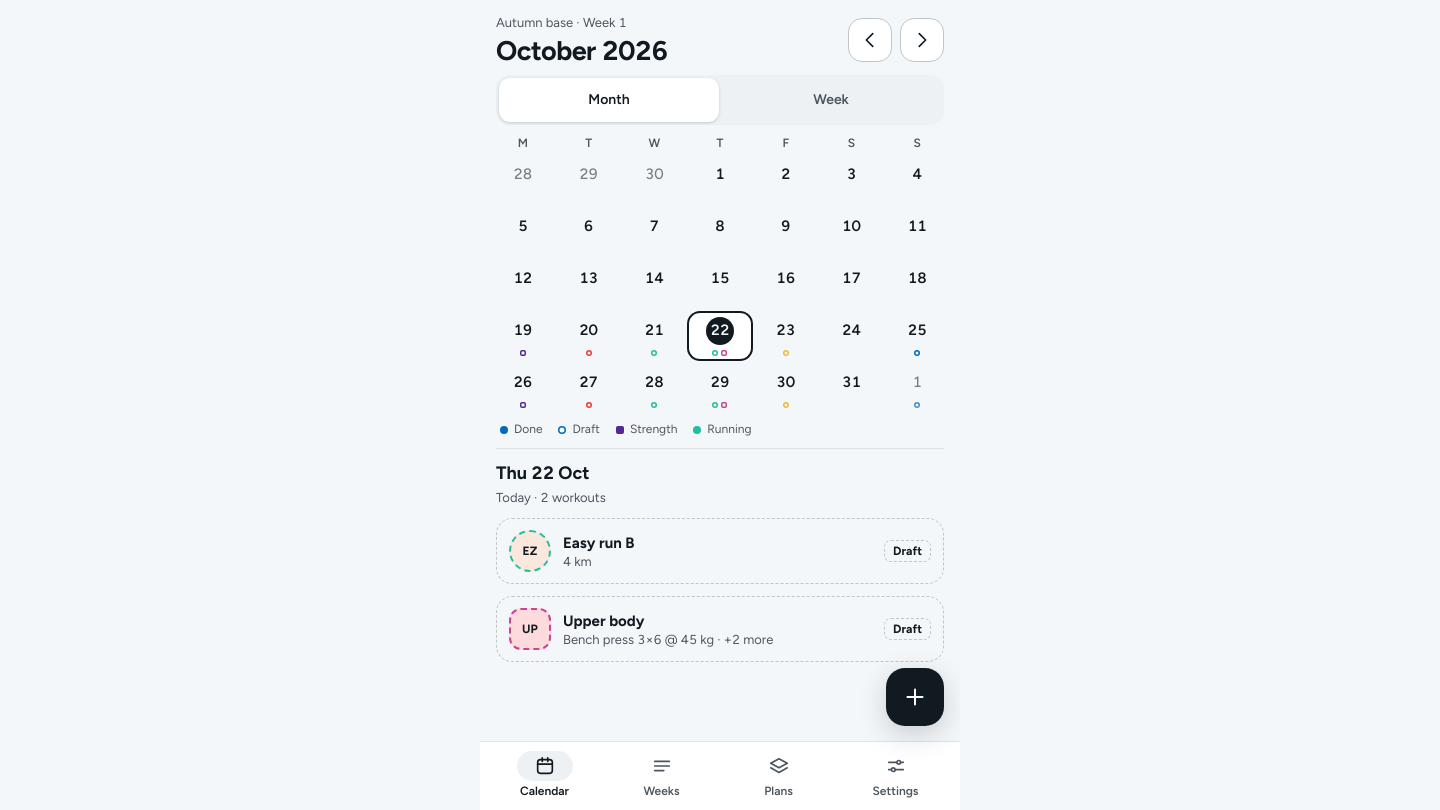
Scenario: dragging in the week view › still opens the workout on a normal tap
Expected: the heading "October 2026" is shown, [496,34,668,66]
What coordinates should you click on to do the following:
click the button "Week"
I would click on:
 (831, 100)
Its box is [721,78,941,122].
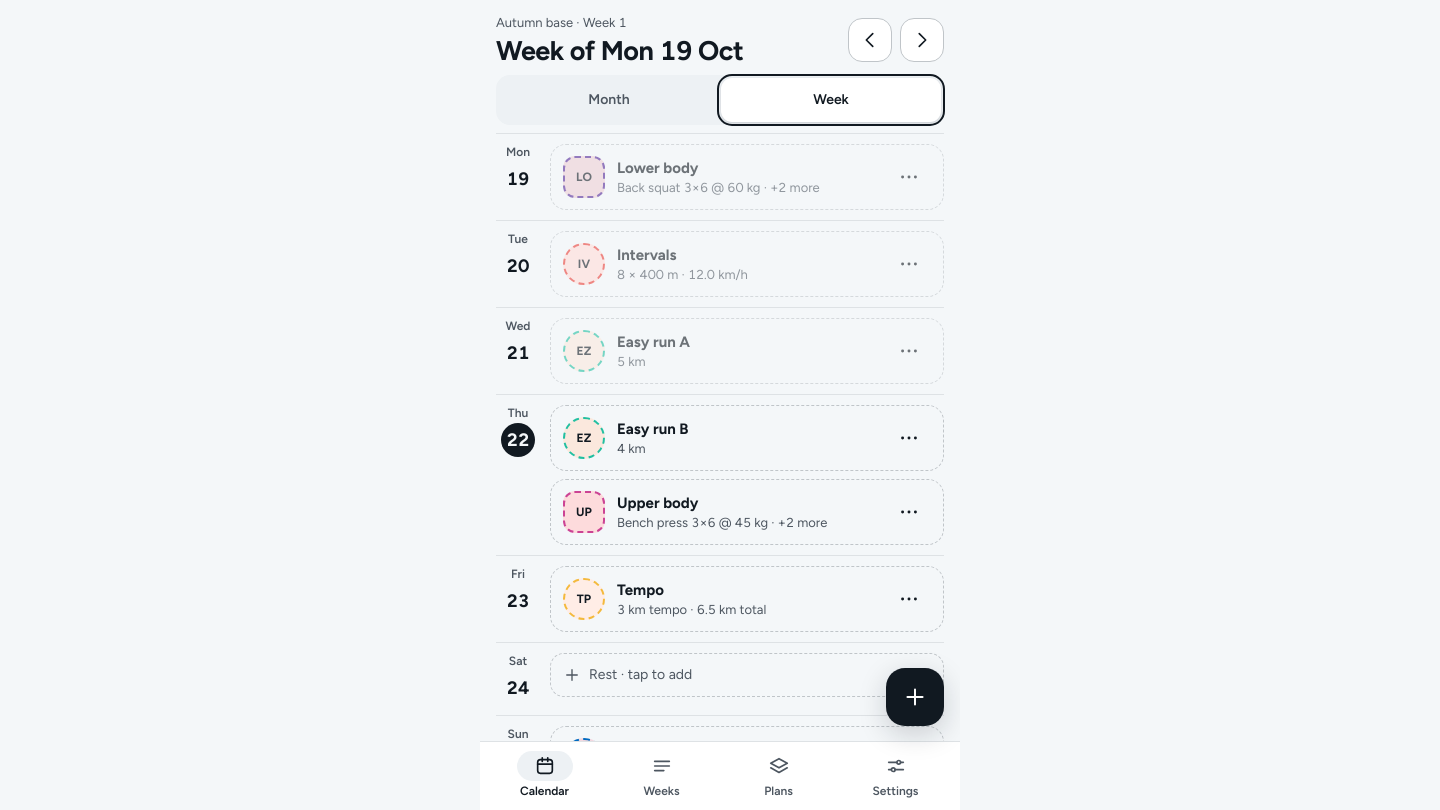
Result: the heading "Week of Mon 19 Oct" is shown at [496,34,743,66]
What coordinates should you click on to do the following:
click the button "EZ Easy run B 4 km"
I would click on:
 (584, 438)
Its box is [563,416,875,460].
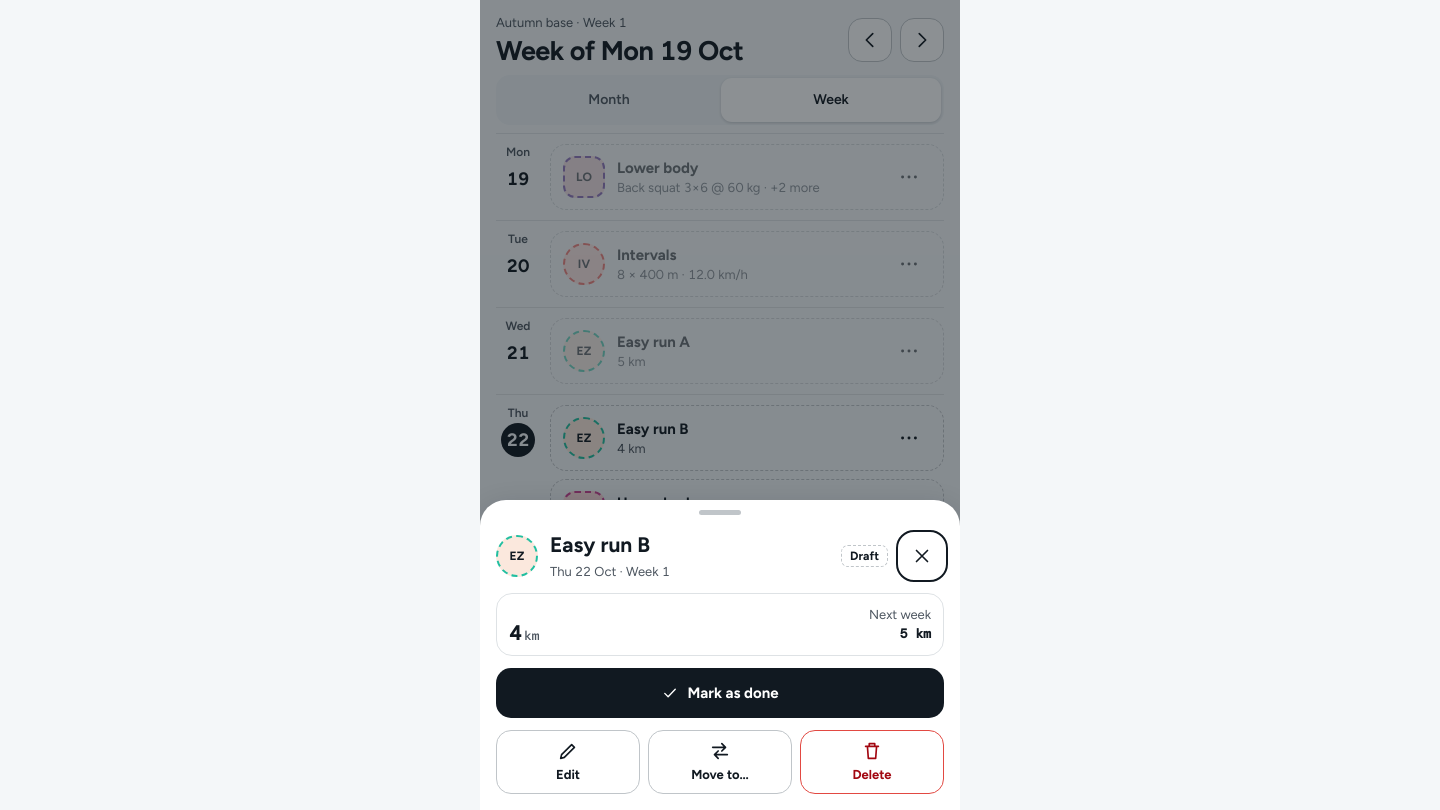
Result: the dialog named "Easy run B workout" is shown at [480,500,960,809]
